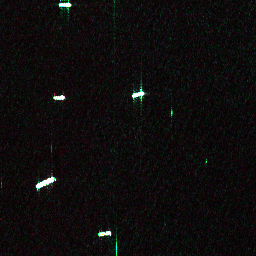ship: (33, 175, 57, 190), (96, 228, 113, 238), (130, 89, 145, 100), (57, 1, 72, 8), (52, 94, 66, 101)
